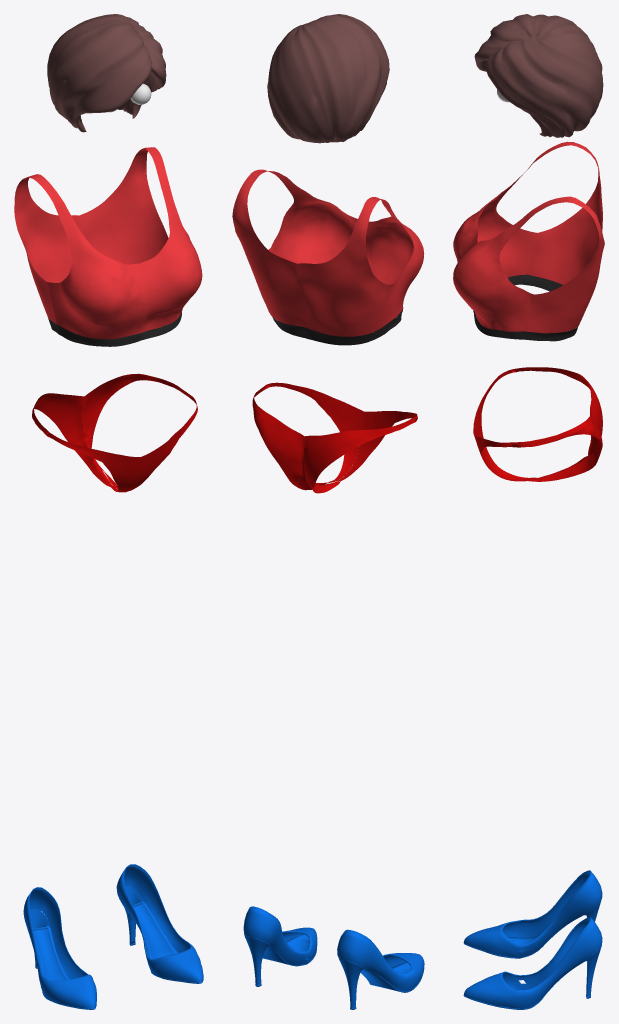
The model's file is mannequin-female-parts.glb.
The picture shows the model from 3 angles, left to right: view 1: azimuth 30°, elevation 25°; view 2: azimuth 150°, elevation 25°; view 3: azimuth 270°, elevation 25°; orthographic projection.
Visible parts, largest first — view 1: hair_Shape, Body_Front.001, Body_Back_2, shoes_l_Shape, Body_Front_2, shoes_r_Shape, Body_Back.001, Pattern2D_151006, Pattern2D_150498, Pattern2D_149184, Pattern2D_148597, Body_Front; view 2: hair_Shape, Body_Back.001, Body_Front_2, Body_Back_2, shoes_r_Shape, Body_Front.001, shoes_l_Shape, Pattern2D_151006, Pattern2D_150498, Pattern2D_148597, Pattern2D_149184, Body_Back; view 3: hair_Shape, Body_Front_2, shoes_l_Shape, shoes_r_Shape, Body_Back.001, Body_Back_2, Body_Front.001, Pattern2D_150498, Pattern2D_151006, Pattern2D_149184, Body_Back_1, Pattern2D_148597 (+2 smaller).
Boxes of the visible parts, box(x1,y1,x2,y2) form: hair_Shape: box(47, 14, 166, 132); Body_Front.001: box(30, 174, 149, 339); Body_Back_2: box(77, 148, 168, 264); shoes_l_Shape: box(116, 864, 203, 983); Body_Front_2: box(135, 147, 202, 333); shoes_r_Shape: box(23, 887, 96, 1009); Body_Back.001: box(14, 174, 78, 323); Pattern2D_151006: box(32, 393, 112, 486); Pattern2D_150498: box(83, 373, 196, 485); Pattern2D_149184: box(46, 431, 140, 492); Pattern2D_148597: box(113, 404, 197, 491); Body_Front: box(57, 325, 142, 346); hair_Shape: box(267, 14, 389, 143); Body_Back.001: box(296, 203, 396, 336); Body_Front_2: box(251, 169, 372, 266); Body_Back_2: box(232, 174, 309, 327); shoes_r_Shape: box(337, 929, 424, 1009); Body_Front.001: box(364, 197, 424, 316); shoes_l_Shape: box(243, 906, 317, 986); Pattern2D_151006: box(303, 417, 414, 493); Pattern2D_150498: box(252, 383, 336, 490); Pattern2D_148597: box(270, 382, 363, 480); Pattern2D_149184: box(337, 411, 417, 481); Body_Back: box(307, 317, 397, 345); hair_Shape: box(474, 14, 603, 137); Body_Front_2: box(453, 196, 576, 331); shoes_l_Shape: box(463, 916, 602, 1009); shoes_r_Shape: box(463, 870, 602, 958); Body_Back.001: box(526, 142, 602, 284); Body_Back_2: box(522, 197, 604, 333); Body_Front.001: box(453, 141, 577, 277); Pattern2D_150498: box(511, 414, 602, 481); Pattern2D_151006: box(515, 367, 602, 479); Pattern2D_149184: box(473, 368, 527, 479); Body_Back_1: box(519, 324, 579, 341); Pattern2D_148597: box(473, 431, 528, 481).
Size of the model in its own units: 0.4946 by 3.02 by 0.4339.
